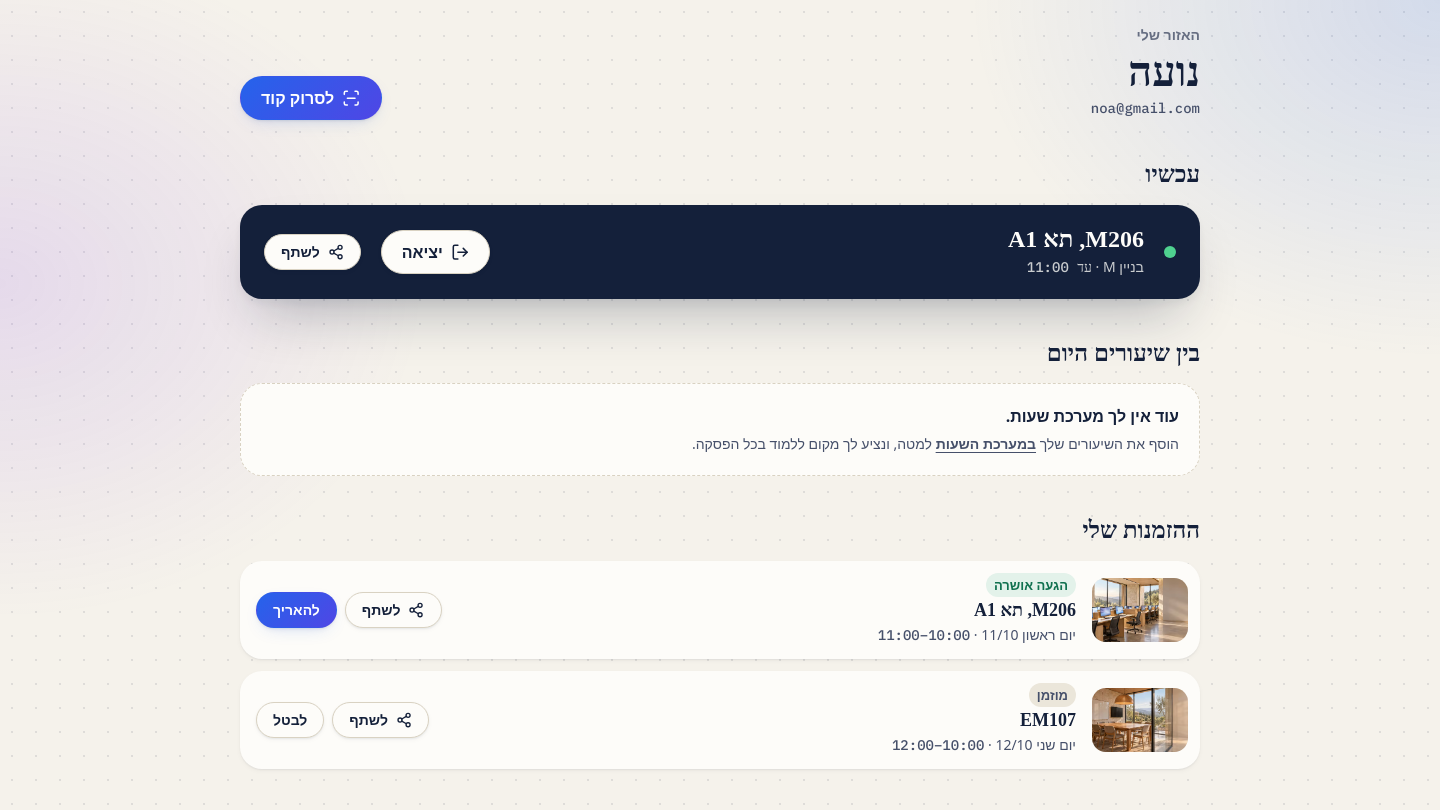
Test: MyPage › checks out
This screenshot has width=1440, height=810.
Click the button "יציאה": (435, 252) 381,230 -> 490,274
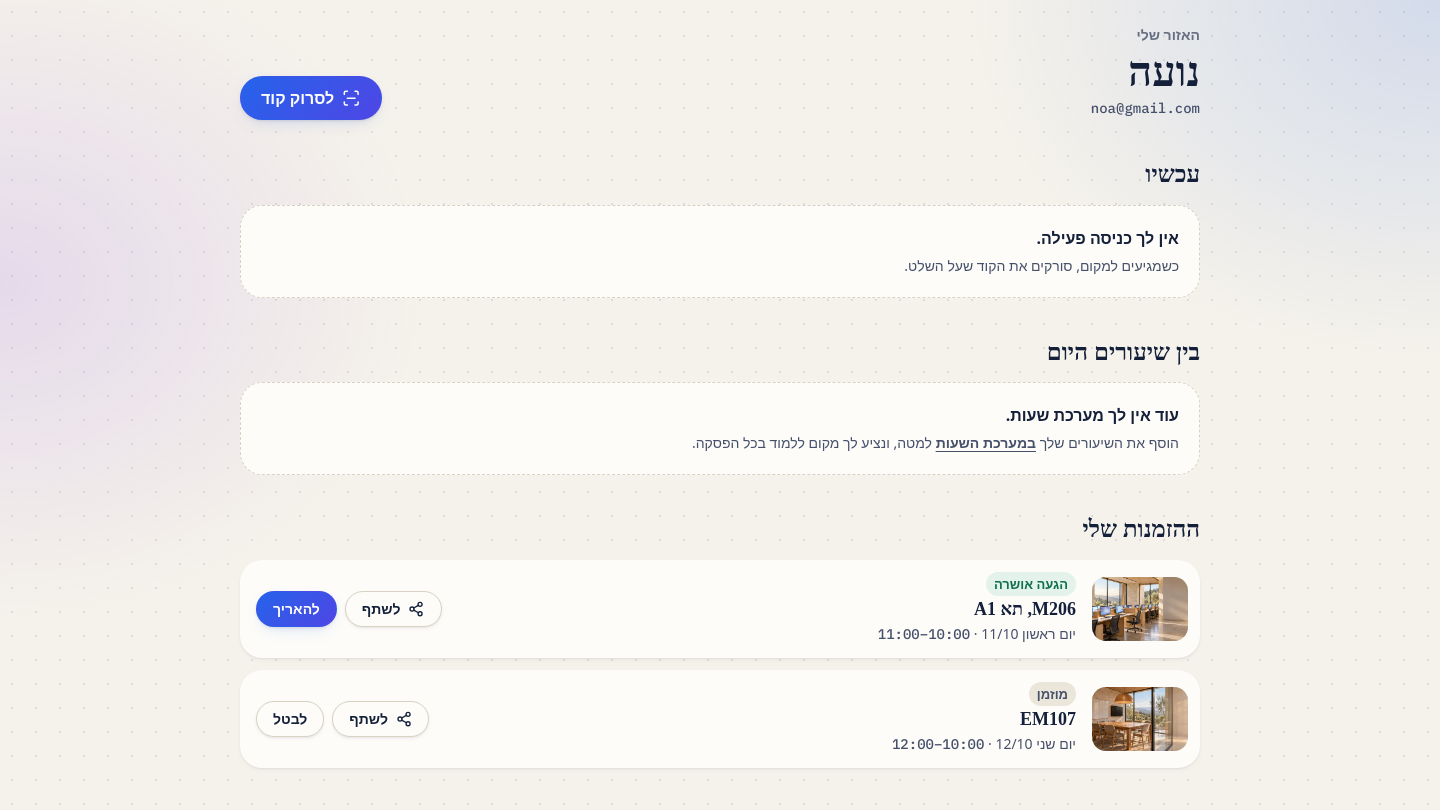
expect the text "אין לך כניסה פעילה." is shown: met, box 1036,227 -> 1179,249
